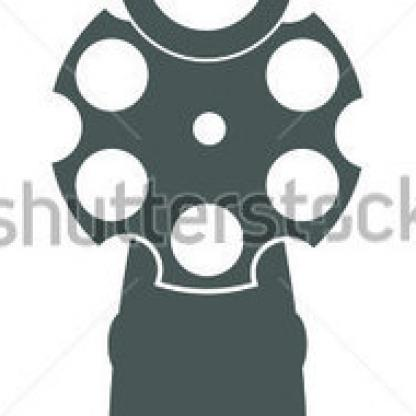gun: (24, 0, 388, 414)
